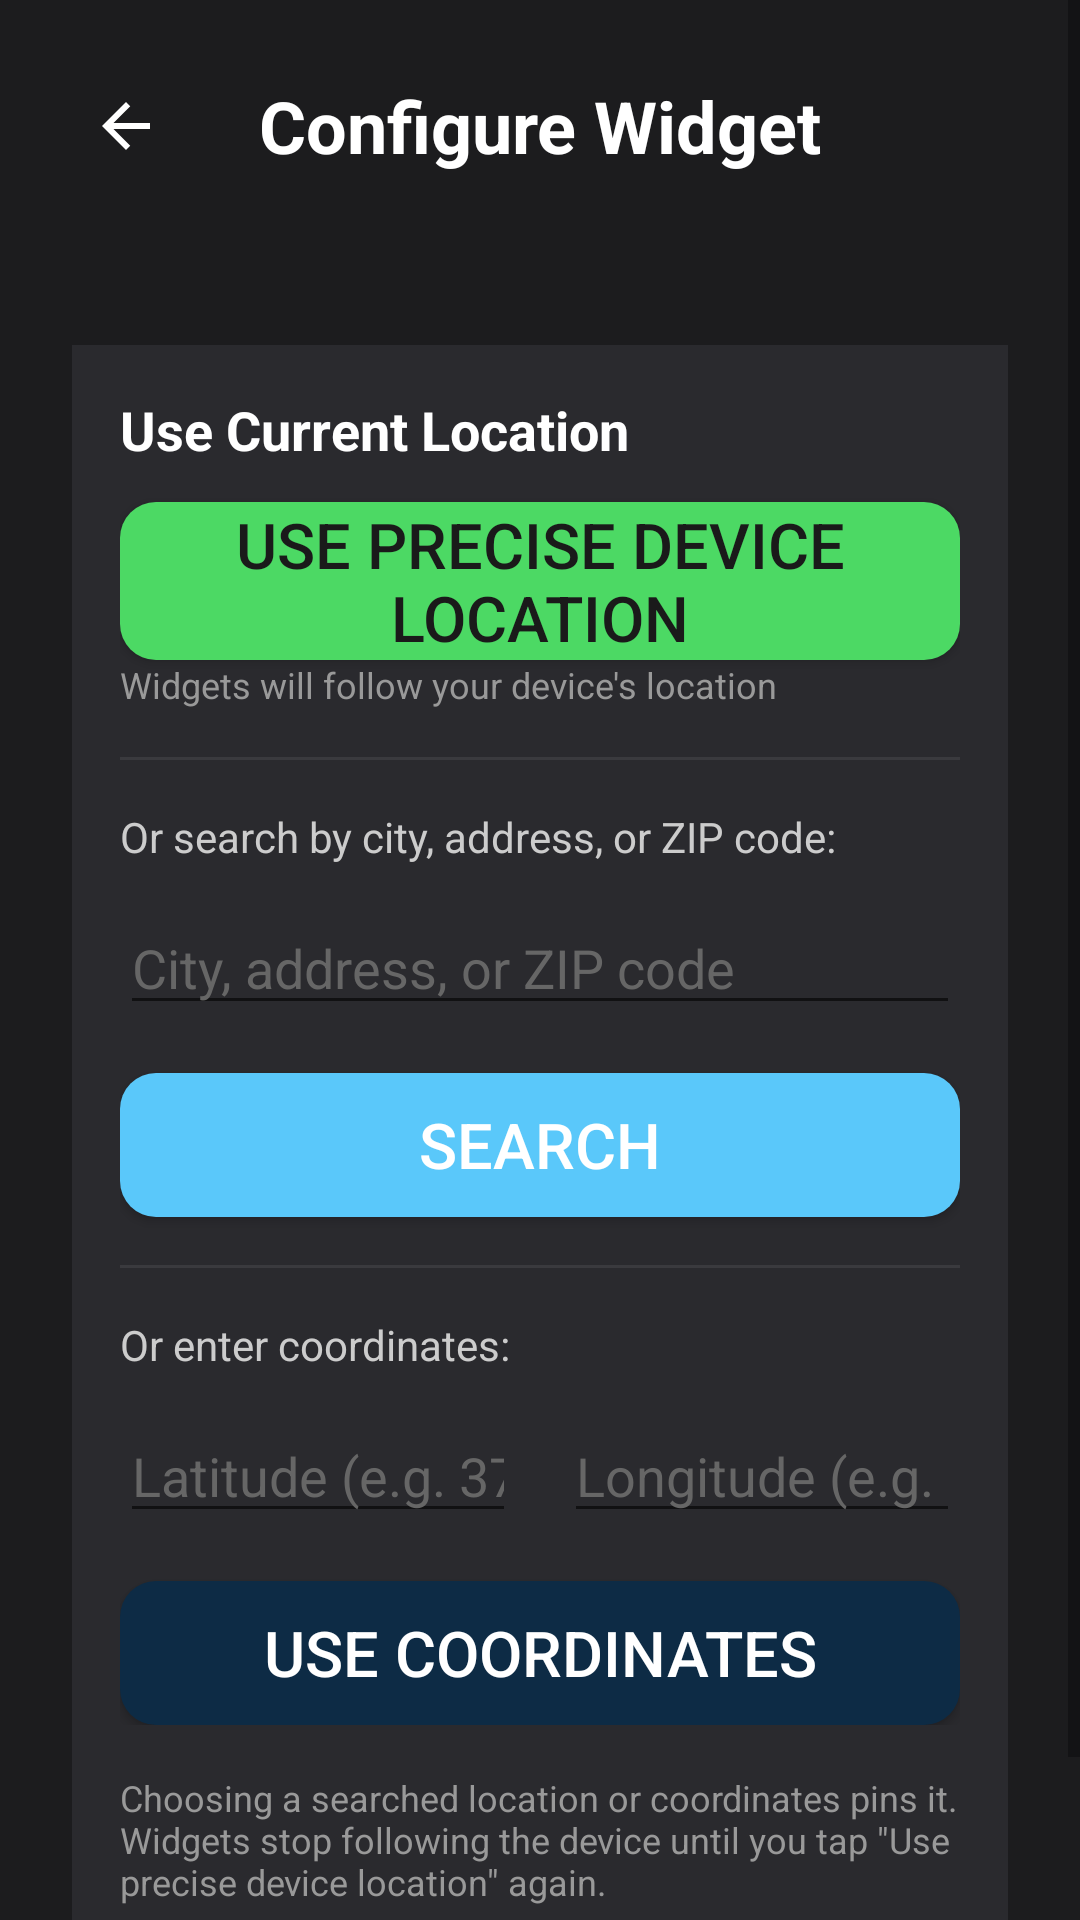

Named icons in this screenshot (1080*1920) and their bounding boxes, box=[x1, y1, x2, y2]:
Back: box=[102, 102, 150, 150]
